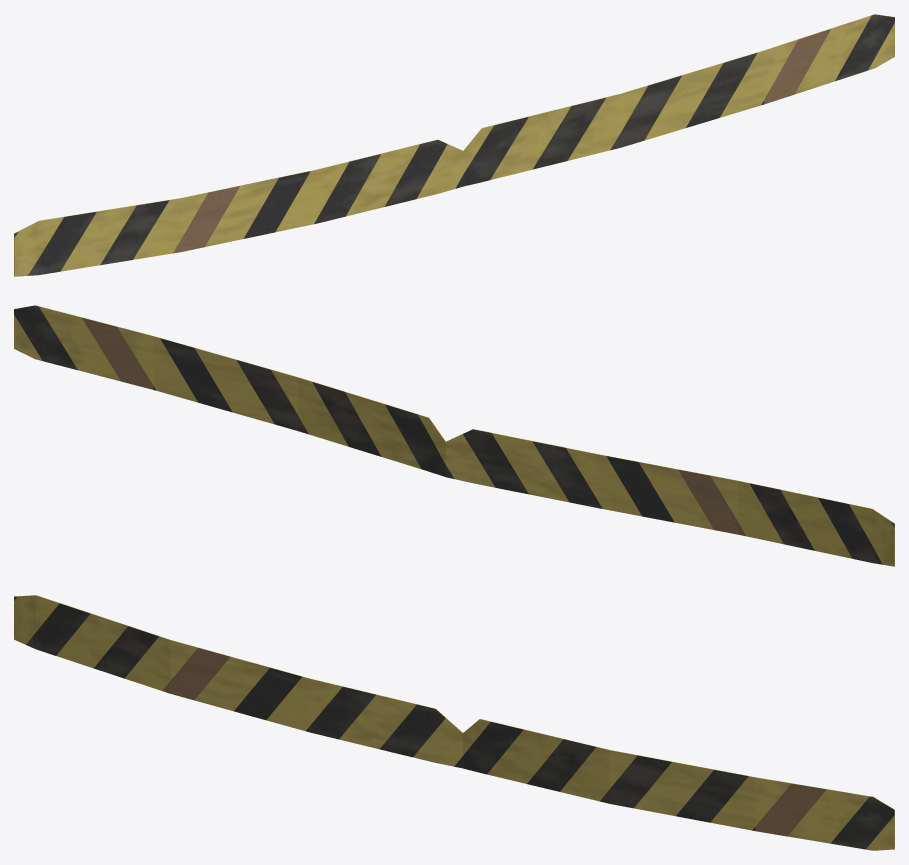
Rendered from CS17_barrier_tape.glb.
3 renders of one model, top to bottom at view 1: azimuth 30°, elevation 25°; view 2: azimuth 150°, elevation 25°; view 3: azimuth 330°, elevation 25°, orthographic.
Visible parts, largest first — view 1: Worn barrier tape; view 2: Worn barrier tape; view 3: Worn barrier tape.
Part boxes in pixels (x1,y1,x2,y2): Worn barrier tape: (14, 14, 894, 276); Worn barrier tape: (14, 305, 894, 566); Worn barrier tape: (14, 595, 894, 850).
Bounding box in the file's own units: 3 × 0.234 × 0.0383.
Materials: 3 (3 with a texture image).
